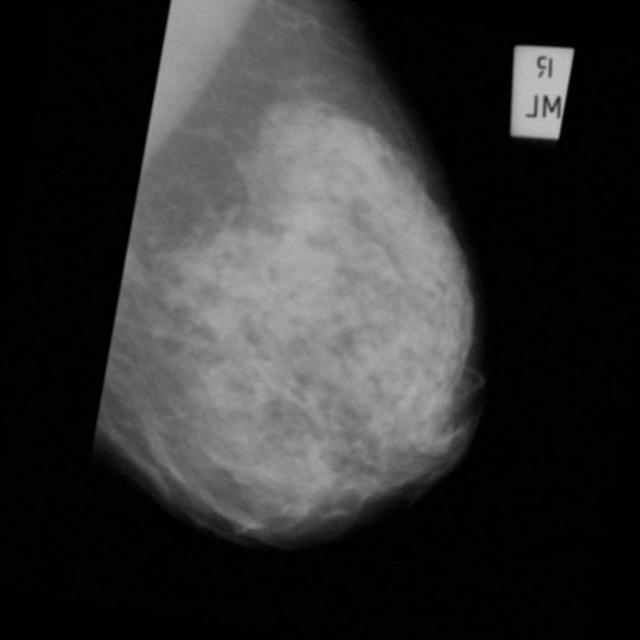ARCH: (110, 246, 143, 279)
